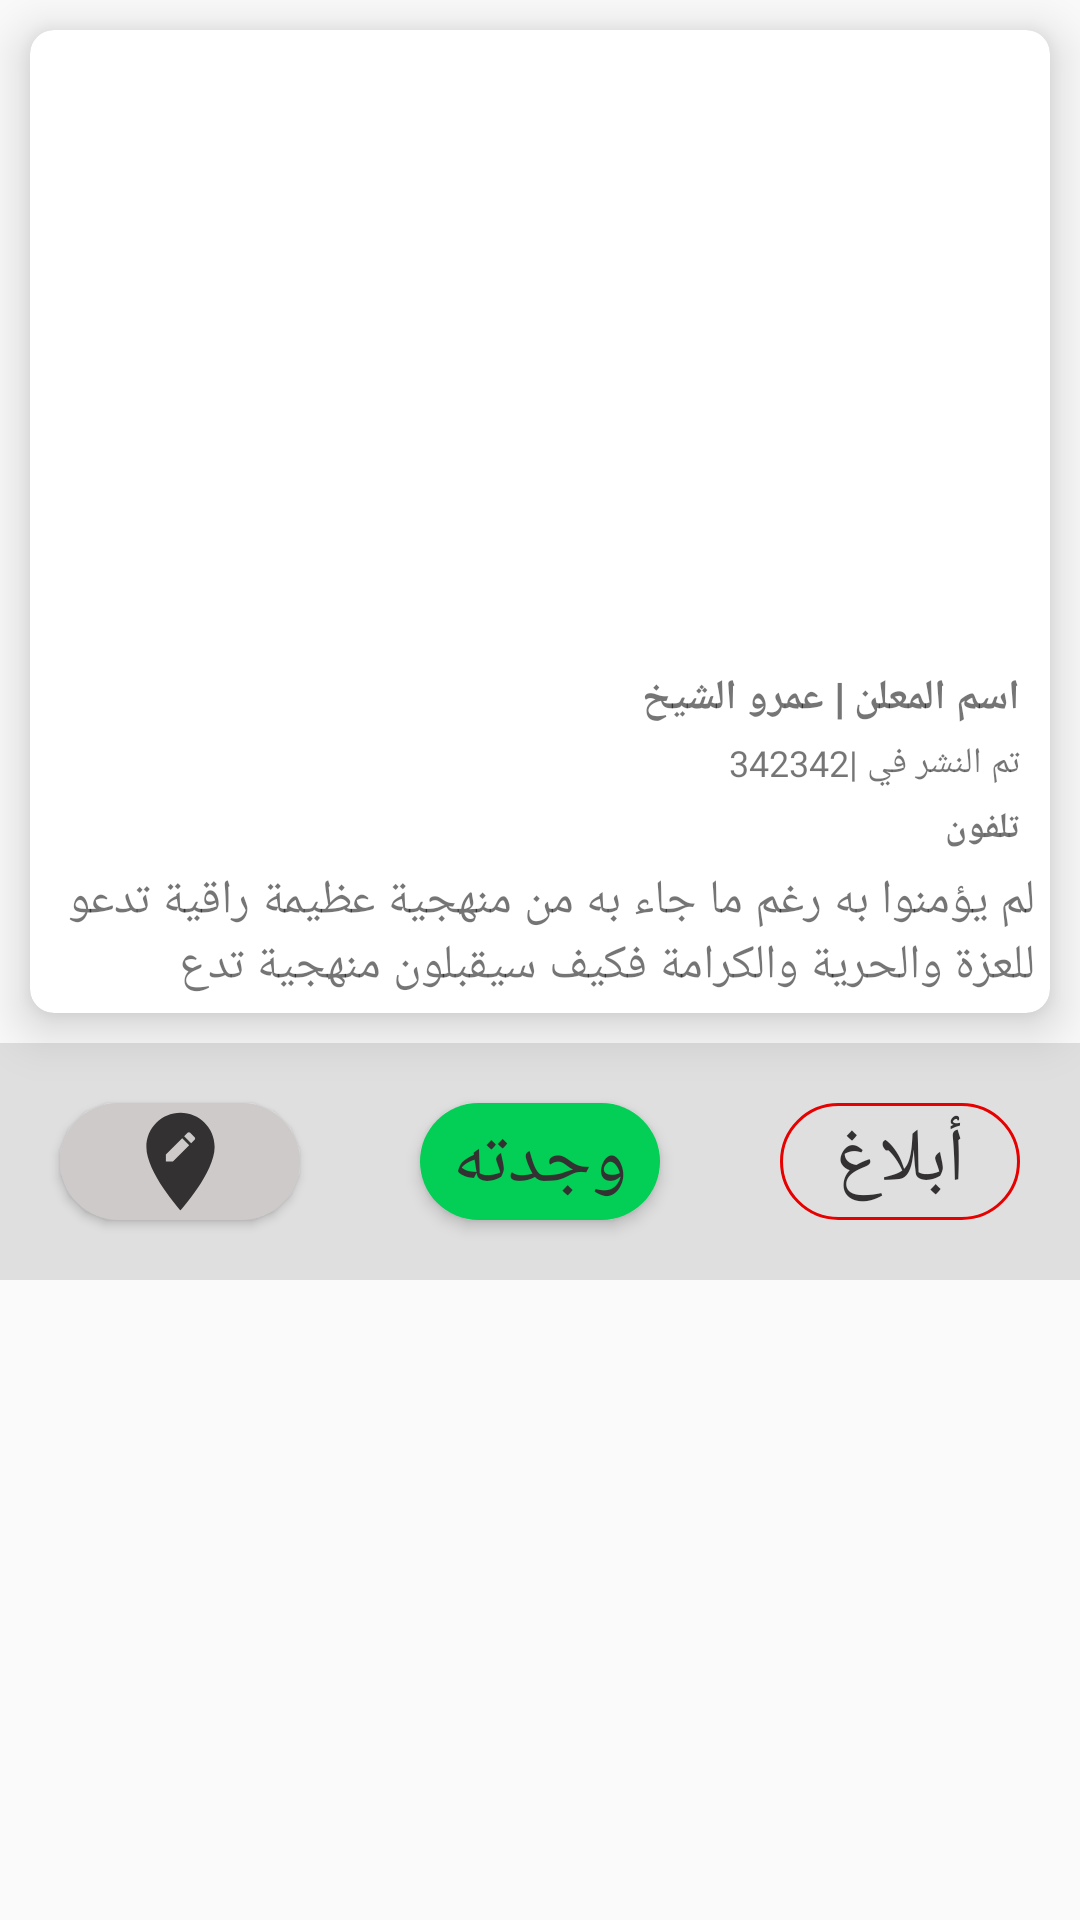

Screen size 1080 x 1920. Icon name, then its box in pixels as detection(x1, y1, x2, y2):
location: detection(60, 1103, 300, 1220)
